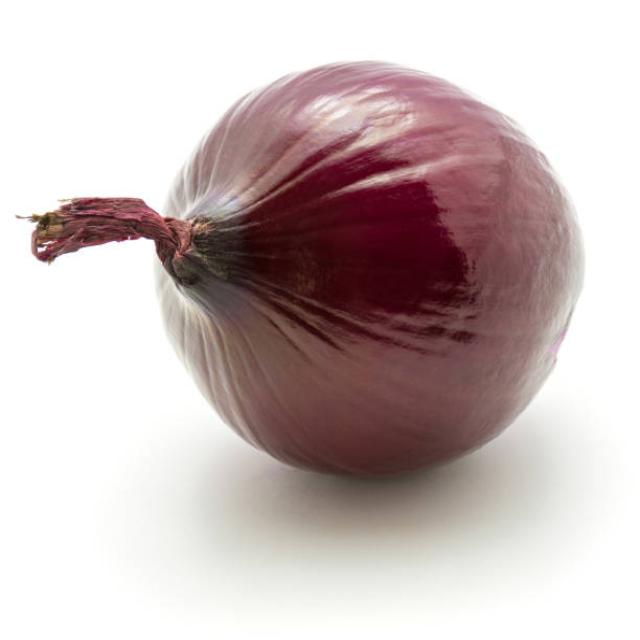onion: (127, 62, 596, 493)
